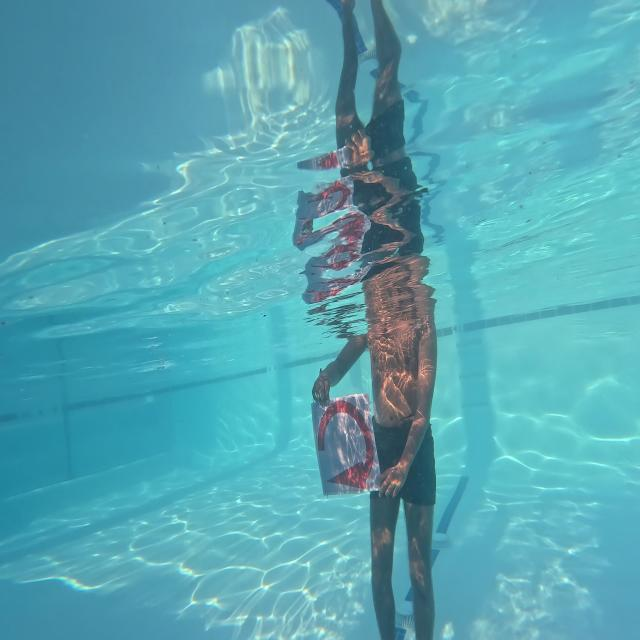red_side: (314, 394, 378, 498)
